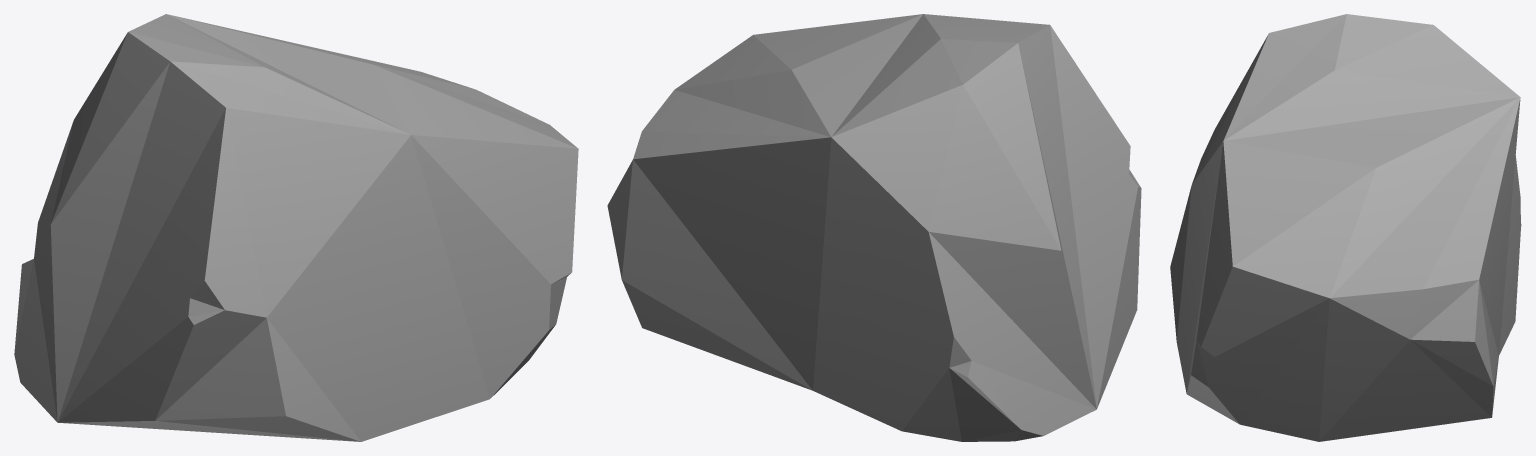
File: stone small 8.fbx
3 renders of one model, left to right at view 1: azimuth 30°, elevation 25°; view 2: azimuth 150°, elevation 25°; view 3: azimuth 270°, elevation 25°, orthographic. The views are drawn at different scales.
Parts seen in each view (by area): view 1: stone small 8; view 2: stone small 8; view 3: stone small 8.
Boxes of the visible parts, x1,y1,x2,y2 form: stone small 8: (14,14,578,441); stone small 8: (607,14,1141,441); stone small 8: (1170,14,1521,441).
Size of the model in its own units: 155 by 113 by 116.
